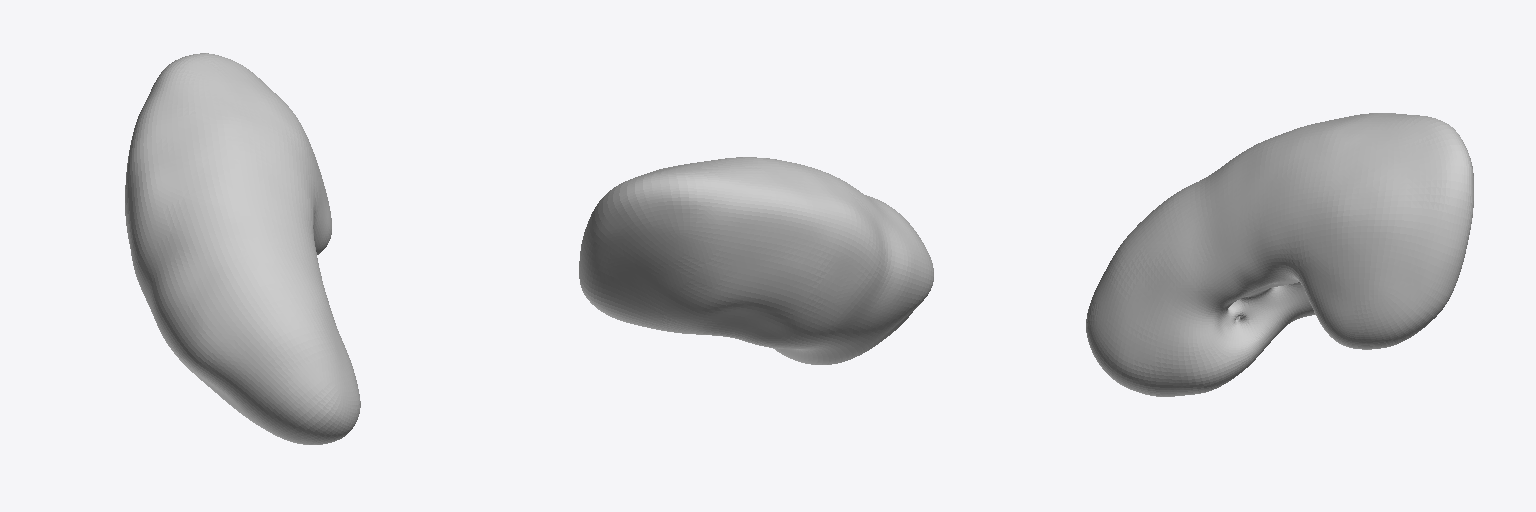
File: 30K_left.obj
3 renders of one model, left to right at view 1: azimuth 30°, elevation 25°; view 2: azimuth 150°, elevation 25°; view 3: azimuth 270°, elevation 25°, orthographic.
Visible parts, largest first — view 1: K_Kidney3:ZBrushPolyMesh3D; view 2: K_Kidney3:ZBrushPolyMesh3D; view 3: K_Kidney3:ZBrushPolyMesh3D.
Part boxes in pixels (x1,y1,x2,y2): K_Kidney3:ZBrushPolyMesh3D: (125, 53, 360, 444); K_Kidney3:ZBrushPolyMesh3D: (579, 157, 933, 364); K_Kidney3:ZBrushPolyMesh3D: (1086, 113, 1473, 396).
Bounding box in the file's own units: 9.33 × 10.15 × 13.12.